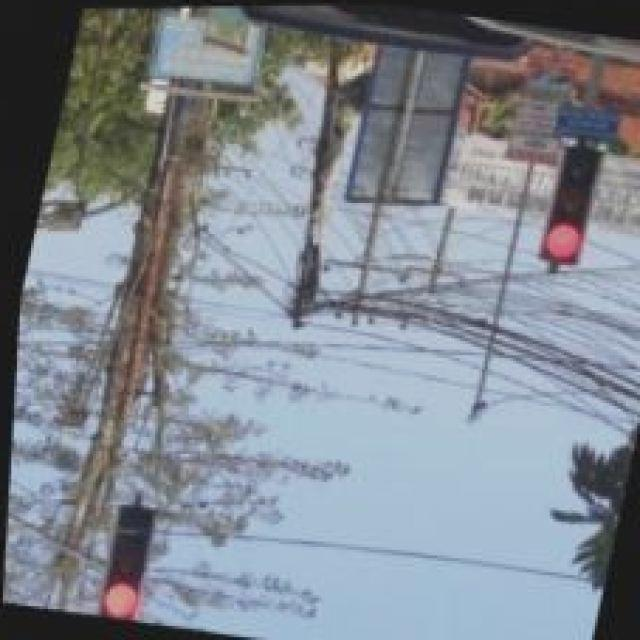Red: (70, 483, 168, 640), (526, 125, 613, 282)
